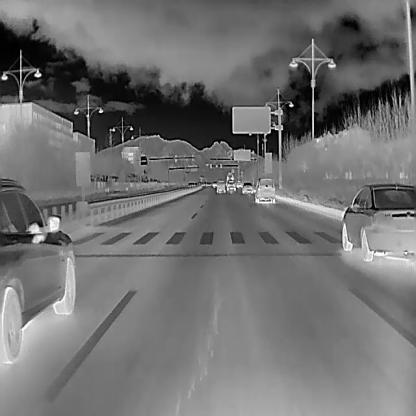car: (0, 177, 76, 363), (340, 181, 416, 261), (254, 178, 275, 203), (241, 182, 252, 193), (226, 179, 236, 191), (216, 180, 224, 192), (235, 179, 242, 187), (186, 180, 193, 188), (211, 179, 217, 187), (196, 180, 200, 184)
truck: (226, 172, 233, 182)
